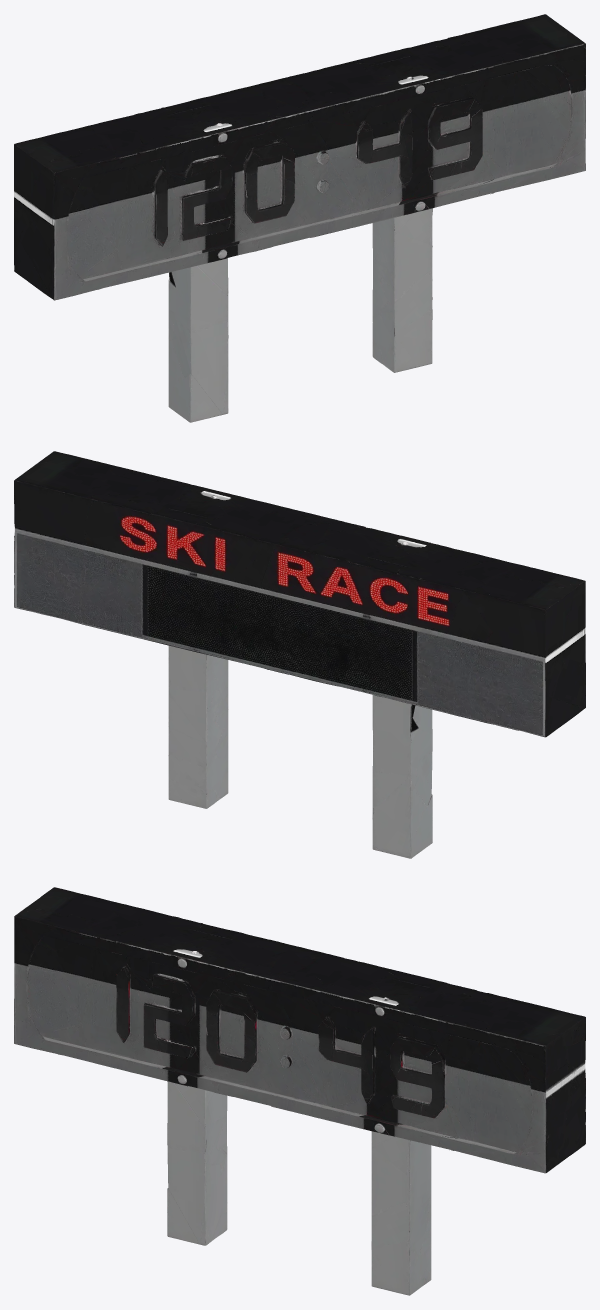
Rendered from timing_board.glb.
The picture shows the model from 3 angles, top to bottom: view 1: azimuth 30°, elevation 25°; view 2: azimuth 150°, elevation 25°; view 3: azimuth 330°, elevation 25°; orthographic projection.
Bounding box in the file's own units: 1.9 × 0.9988 × 0.2548.
Materials: 1 (1 with a texture image).
